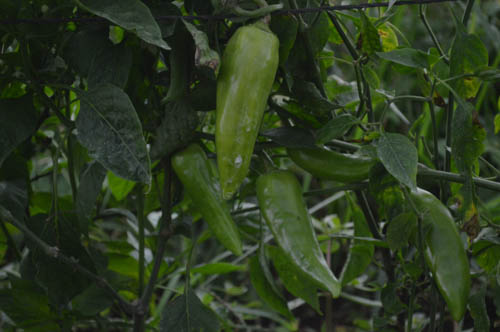ChiliPepper: (204, 20, 283, 201), (253, 171, 344, 303), (401, 184, 476, 326), (167, 146, 248, 256), (277, 117, 377, 187)
